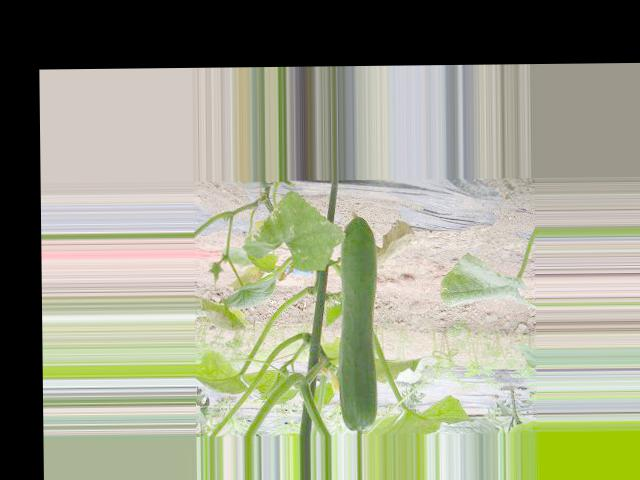cucumber: (337, 210, 378, 430)
